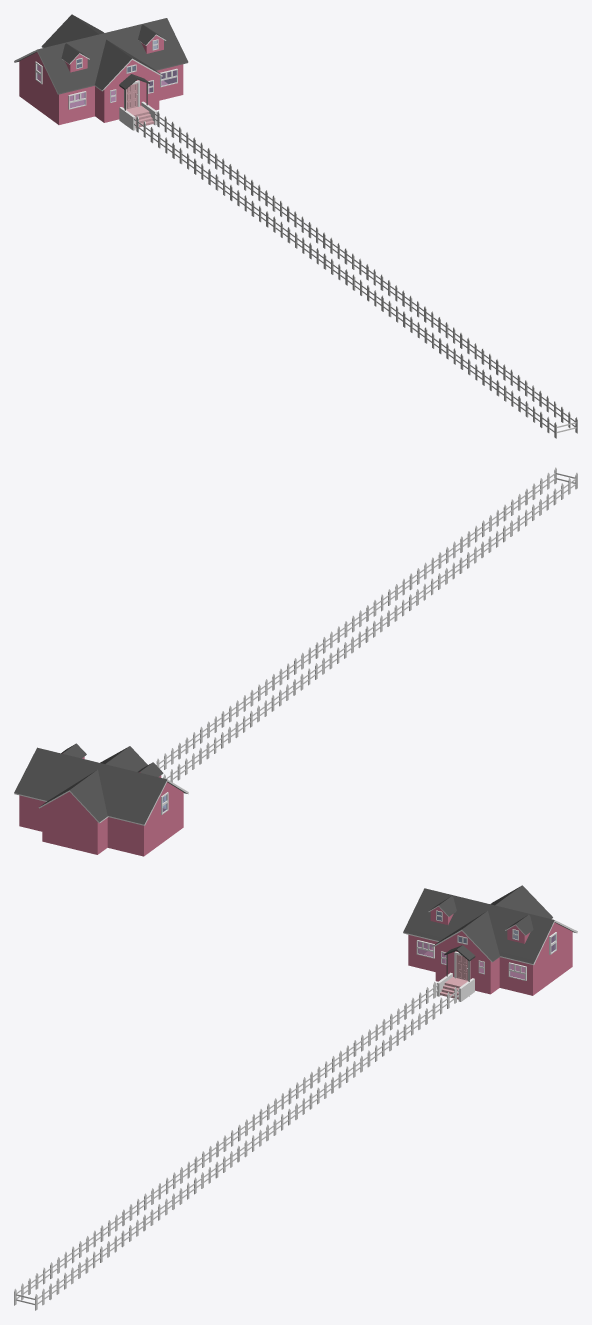
Rendered from maison_level1.fbx.
The picture shows the model from 3 angles, top to bottom: view 1: azimuth 30°, elevation 25°; view 2: azimuth 150°, elevation 25°; view 3: azimuth 330°, elevation 25°; orthographic projection.
Visible parts, largest first — view 1: Barrieres_grandes, toit, Maison, Barrieres2, toit2, Maison_avant, Fenetres_grandes; view 2: toit, Barrieres_grandes, Maison, Barrieres2, Maison_avant, toit2; view 3: Barrieres_grandes, toit, Maison, Barrieres2, toit2, Maison_avant, Fenetres_grandes, petit_toit.
Part boxes in pixels (<box>): Barrieres_grandes: <box>136,110,577,438</box>; toit: <box>14,18,188,94</box>; Maison: <box>19,52,183,124</box>; Barrieres2: <box>134,113,575,432</box>; toit2: <box>41,14,162,91</box>; Maison_avant: <box>95,60,159,122</box>; Fenetres_grandes: <box>68,68,177,109</box>; toit: <box>14,747,188,825</box>; Barrieres_grandes: <box>156,467,577,782</box>; Maison: <box>19,782,183,856</box>; Barrieres2: <box>156,473,575,781</box>; Maison_avant: <box>42,792,107,854</box>; toit2: <box>38,746,147,823</box>; Barrieres_grandes: <box>14,981,456,1310</box>; toit: <box>403,888,577,965</box>; Maison: <box>408,922,572,995</box>; Barrieres2: <box>16,984,458,1304</box>; toit2: <box>431,885,552,962</box>; Maison_avant: <box>435,931,499,994</box>; Fenetres_grandes: <box>416,940,526,980</box>; petit_toit: <box>428,896,533,935</box>.
Bounding box in the file's own units: 1181 × 564 × 7809.
